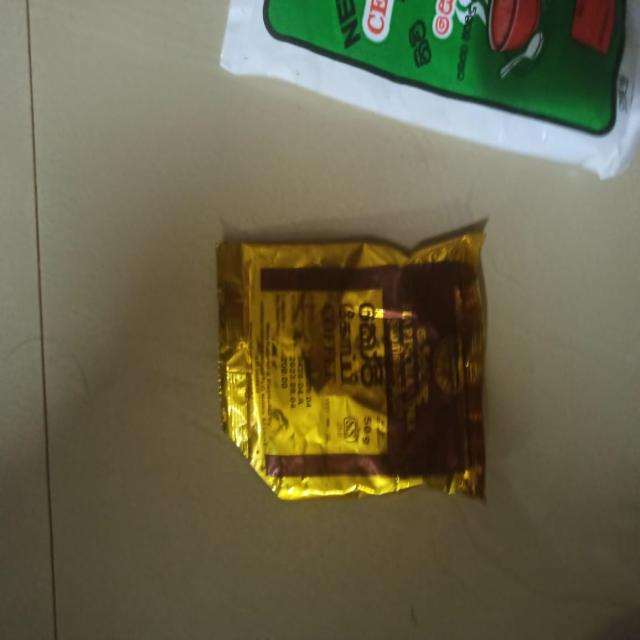Harischandra Coffee: (181, 252, 490, 518)
